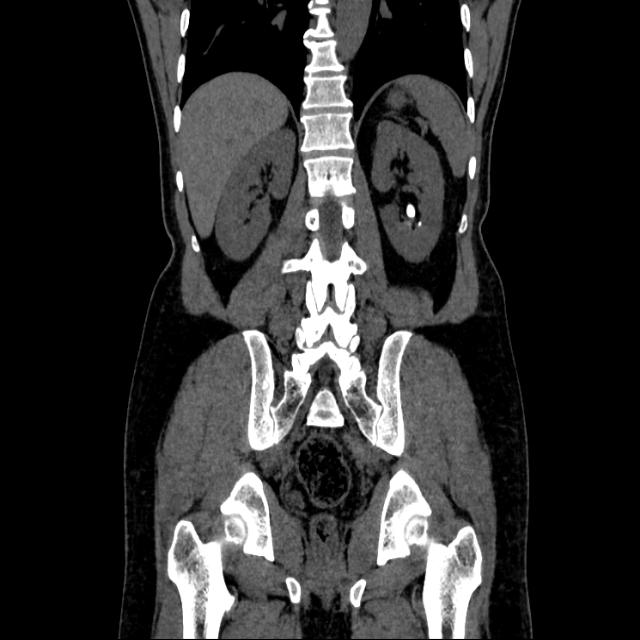kidneystone: (405, 201, 416, 220)
